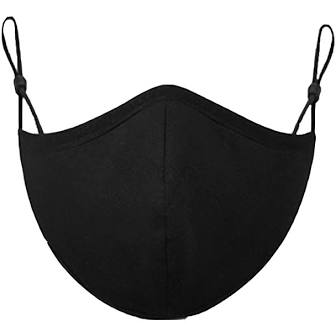FaceMask: (19, 87, 315, 320)
